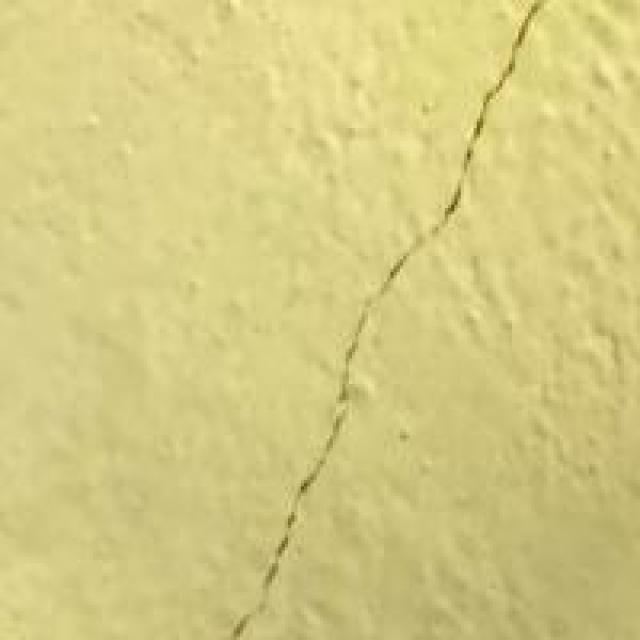crack: (218, 3, 563, 637)
